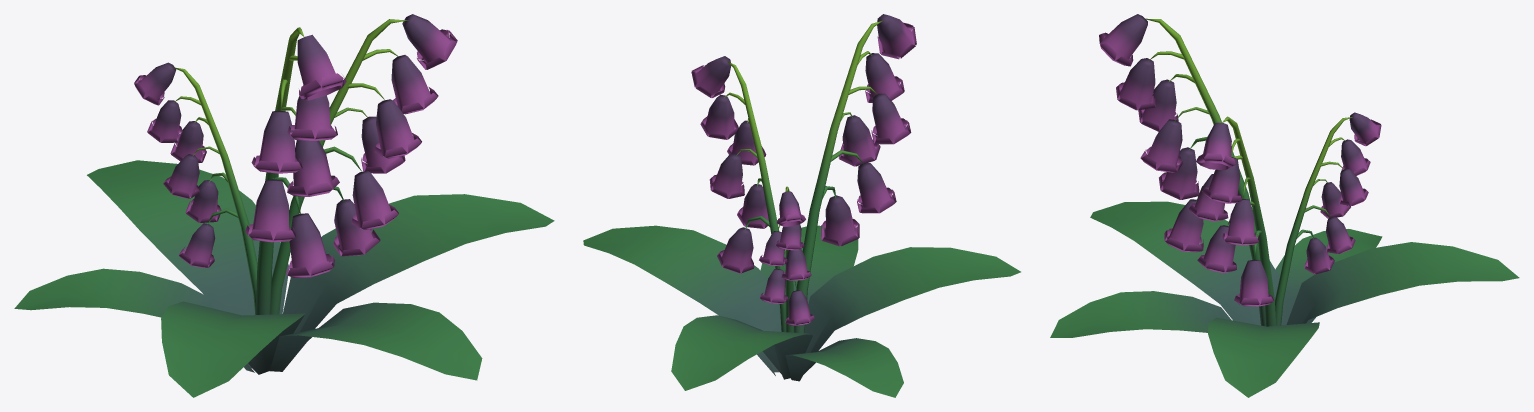
Rendered from Flower_005.fbx.
3 renders of one model, left to right at view 1: azimuth 30°, elevation 25°; view 2: azimuth 150°, elevation 25°; view 3: azimuth 270°, elevation 25°, orthographic. The views are drawn at different scales.
Visible parts, largest first — view 1: Flower.005; view 2: Flower.005; view 3: Flower.005.
Boxes of the visible parts, x1,y1,x2,y2 form: Flower.005: (14,14,554,397); Flower.005: (583,14,1020,397); Flower.005: (1050,14,1519,397).
Size of the model in its own units: 3.96 by 3.27 by 4.18.
